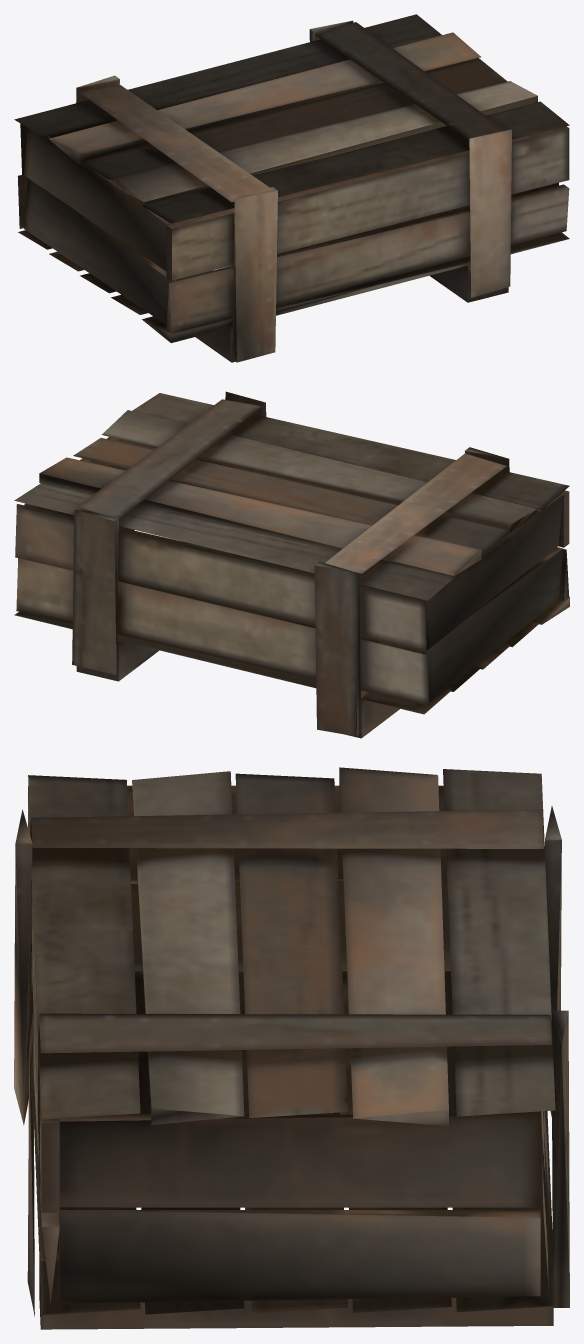
The model's file is Wooden box 2,3.fbx.
The picture shows the model from 3 angles, top to bottom: view 1: azimuth 30°, elevation 25°; view 2: azimuth 150°, elevation 25°; view 3: azimuth 270°, elevation 25°; orthographic projection. The views are drawn at different scales.
Parts seen in each view (by area): view 1: Wooden_box003_LOD0; view 2: Wooden_box003_LOD0; view 3: Wooden_box003_LOD0.
Boxes of the visible parts, x1,y1,x2,y2 form: Wooden_box003_LOD0: (14,14,569,362); Wooden_box003_LOD0: (14,391,569,738); Wooden_box003_LOD0: (14,767,569,1329).
Size of what is drawn, in the model's own units: 94.23 by 36.08 by 63.7.
